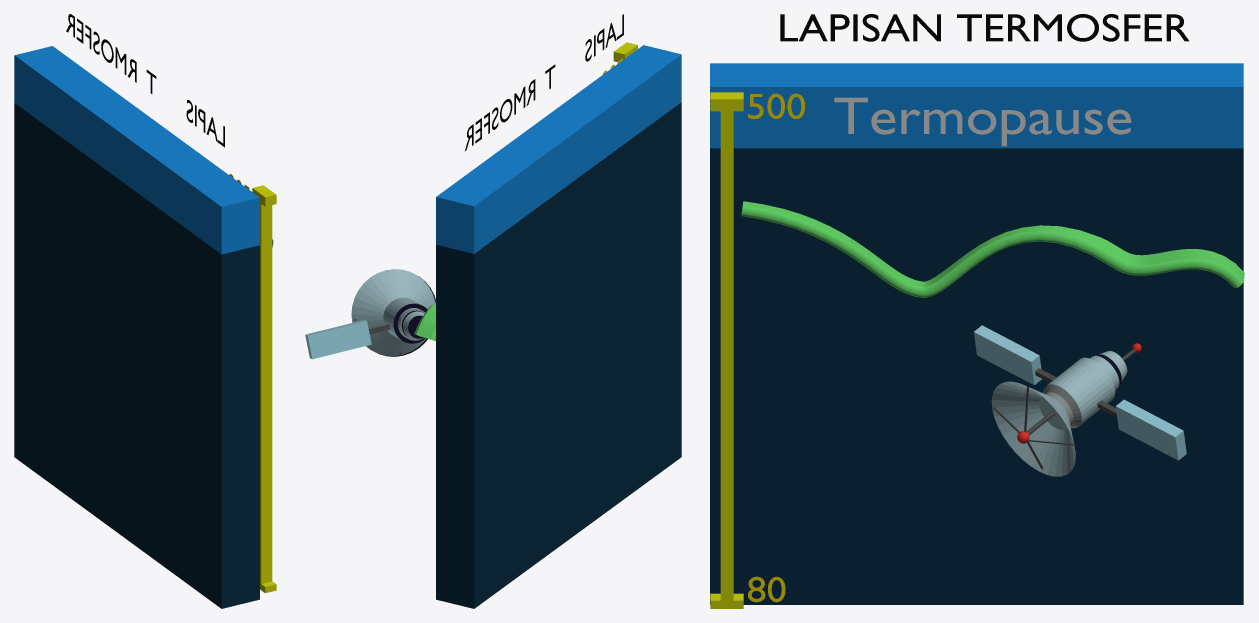
Rendered from termosfer.fbx.
3 views of the same model, side by side, from view 1: azimuth 30°, elevation 25°; view 2: azimuth 150°, elevation 25°; view 3: azimuth 270°, elevation 25° (orthographic). The views are drawn at different scales.
Visible parts, largest first — view 1: Cube, Cube.001, Text.001; view 2: Cube, Sphere, Text.001, BezierCurve_BezierCurve.007; view 3: Cube, Sphere, BezierCurve_BezierCurve.007, Cube.001, Text.001, Text.
Boxes of the visible parts, x1=… form: Cube: x1=14, y1=46, x2=259, y2=608; Cube.001: x1=252, y1=185, x2=276, y2=593; Text.001: x1=66, y1=14, x2=224, y2=147; Cube: x1=436, y1=45, x2=681, y2=608; Sphere: x1=305, y1=269, x2=435, y2=359; Text.001: x1=465, y1=14, x2=623, y2=150; BezierCurve_BezierCurve.007: x1=414, y1=302, x2=435, y2=340; Cube: x1=710, y1=63, x2=1243, y2=604; Sphere: x1=974, y1=325, x2=1186, y2=476; BezierCurve_BezierCurve.007: x1=741, y1=201, x2=1244, y2=297; Cube.001: x1=710, y1=92, x2=743, y2=608; Text.001: x1=780, y1=14, x2=1189, y2=41; Text: x1=834, y1=97, x2=1131, y2=146.
Size of the model in its own units: 299 by 664 by 549.
